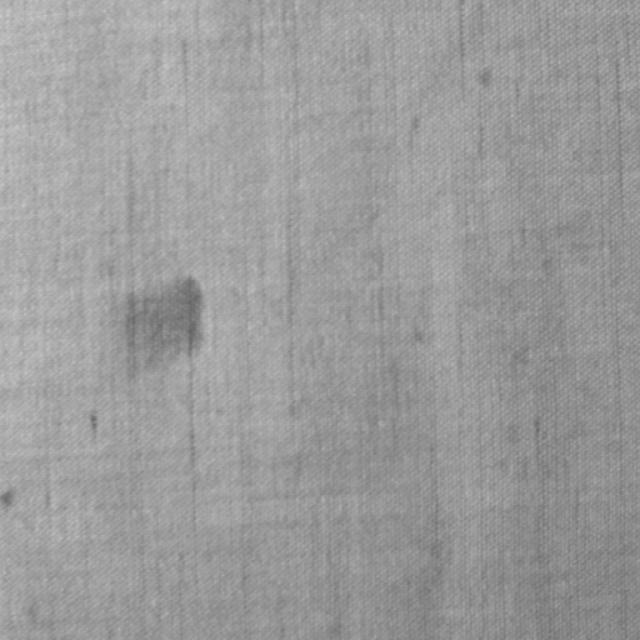oil spot: (121, 272, 207, 388)
